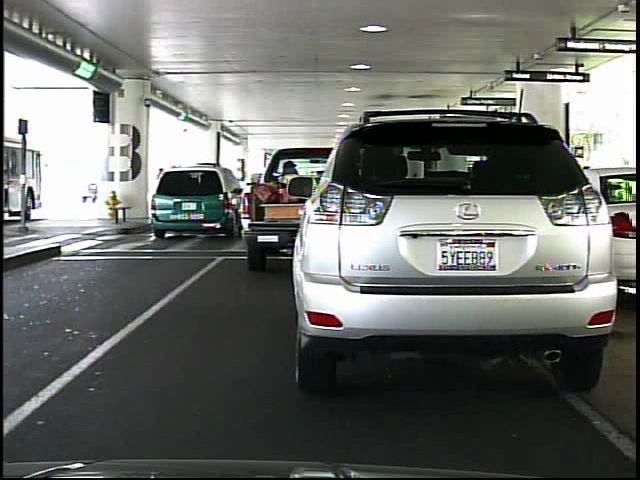car: (287, 91, 629, 393), (148, 165, 227, 232)
striscie pedonali: (76, 228, 244, 252)
